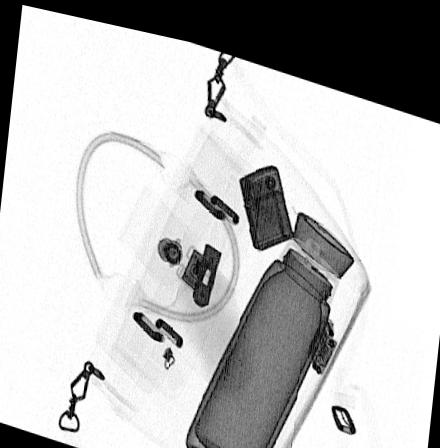Lighter: (237, 152, 294, 239)
